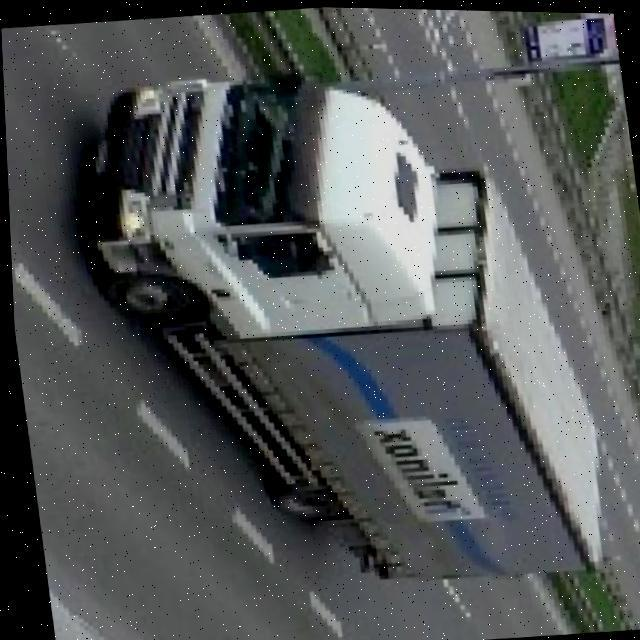truck: (73, 36, 622, 598)
